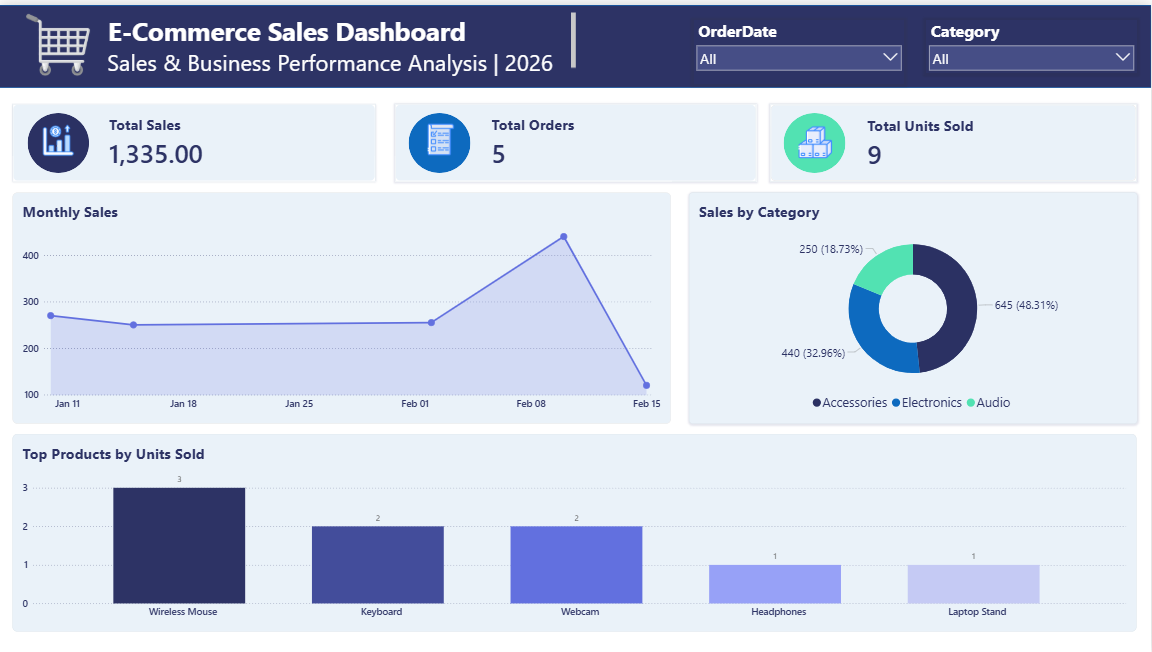

What the dashboard file says about the page in this screenshot:
{"tool":"powerbi","page":{"name":"Page 1","canvas":[1920,1080],"ordinal":0},"visuals":[{"type":"donutChart","title":"Sales by Category","fields":{"Category":["Products.Category"],"Y":["Customers.Total Sales"]},"box":[1150,311.8,747.1,385.3],"z":0},{"type":"lineChart","title":"Monthly Sales","fields":{"Category":["Orders.OrderDate"],"Y":["Customers.Total Sales"]},"box":[23.5,311.8,1097.1,385.3],"z":1000},{"type":"shape","box":[0,0,1920.6,138.2],"z":2000},{"type":"clusteredColumnChart","title":"Top Products by Units Sold","fields":{"Category":["Products.ProductName"],"Y":["Sum(OrderItems.Quantity)"]},"box":[23.5,714.7,1873.5,329.4],"z":3000},{"type":"textbox","box":[170.6,11.8,791.2,114.7],"z":4000},{"type":"cardVisual","fields":{"Data":["CountNonNull(Orders.OrderID)"]},"box":[658.8,164.7,602.9,129.4],"z":5000},{"type":"slicer","fields":{"Values":["Orders.OrderDate"]},"box":[1157.1,25.7,351.4,105.7],"z":6000},{"type":"cardVisual","fields":{"Data":["Customers.Total Sales"]},"box":[23.5,164.7,605.9,129.4],"z":7000},{"type":"slicer","fields":{"Values":["Products.Category"]},"box":[1545.7,25.7,351.4,88.6],"z":8000},{"type":"cardVisual","fields":{"Data":["Customers.Total Units Sold"]},"box":[1285.3,164.7,611.8,129.4],"z":9000},{"type":"shape","box":[48.6,180,102.9,100],"z":10000},{"type":"shape","box":[682.8,179.3,103.4,100],"z":11000},{"type":"shape","box":[1308.6,179.3,103.4,100],"z":12000},{"type":"image","box":[73.5,191.2,52.9,70.6],"z":13000},{"type":"image","box":[708.8,173.5,52.9,102.9],"z":14000},{"type":"image","box":[1332.4,176.5,55.9,102.9],"z":15000},{"type":"image","box":[23.5,2.9,155.9,126.5],"z":16000}]}

Visuals, with their boxes in screenshot pixels (x1, y1, x2, y2), scaled from the page's 1920x1080 canvas onto the 1152x652 screenshot:
"Sales by Category" donutChart: [690, 188, 1138, 421]
"Monthly Sales" lineChart: [14, 188, 672, 421]
shape: [0, 0, 1151, 83]
"Top Products by Units Sold" clusteredColumnChart: [14, 431, 1138, 630]
textbox: [102, 7, 577, 76]
cardVisual - CountNonNull(Orders.OrderID): [395, 99, 757, 178]
slicer - Orders.OrderDate: [694, 16, 905, 79]
cardVisual - Customers.Total Sales: [14, 99, 378, 178]
slicer - Products.Category: [927, 16, 1138, 69]
cardVisual - Customers.Total Units Sold: [771, 99, 1138, 178]
shape: [29, 109, 91, 169]
shape: [410, 108, 472, 169]
shape: [785, 108, 847, 169]
image: [44, 115, 76, 158]
image: [425, 105, 457, 167]
image: [799, 107, 833, 169]
image: [14, 2, 108, 78]
